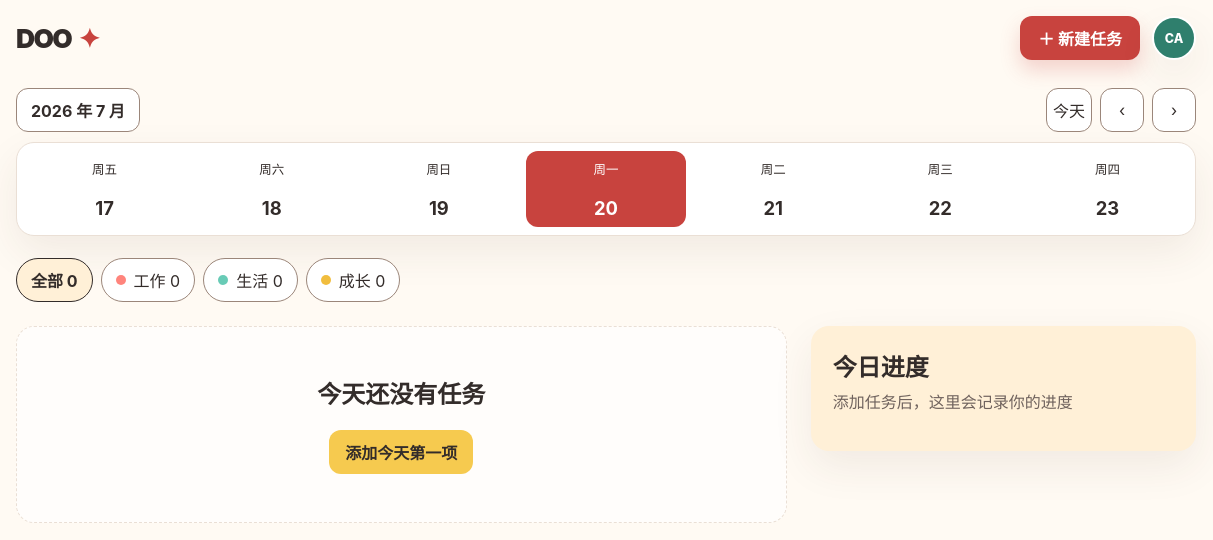
Test: uses selected-date wording throughout the list and progress panel
The image size is (1213, 540).
Click the button with aria-label "2026年7月21日" at (773, 189), box x1=694 y1=151 x2=853 y2=227
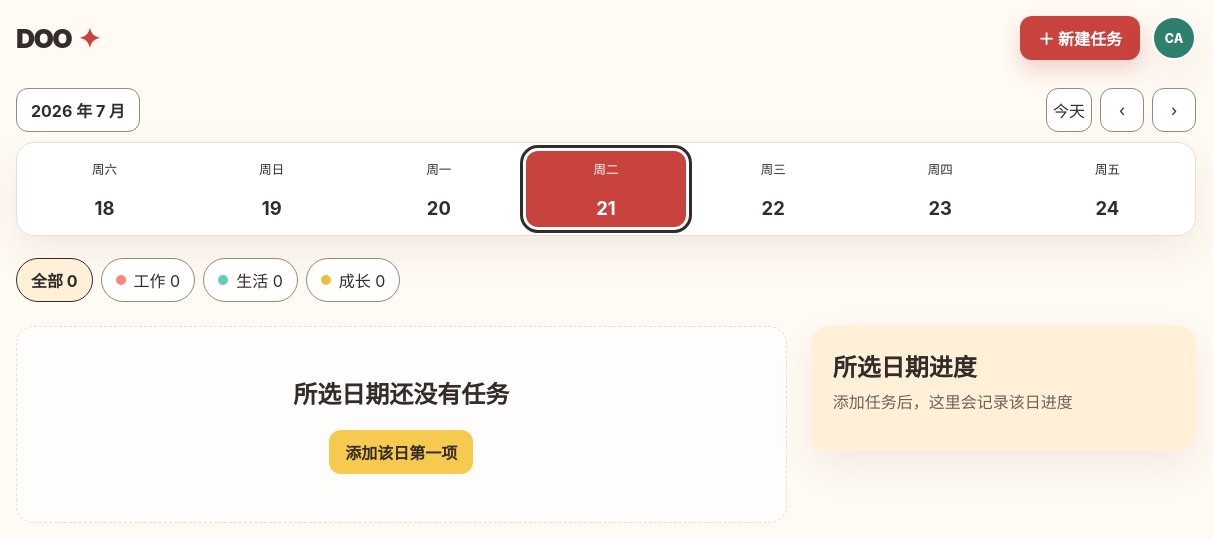
Result: the heading "所选日期还没有任务" is shown at x1=293 y1=380 x2=509 y2=409
Result: the button "添加该日第一项" is shown at x1=329 y1=430 x2=473 y2=474
Result: the heading "所选日期进度" is shown at x1=833 y1=353 x2=977 y2=382
